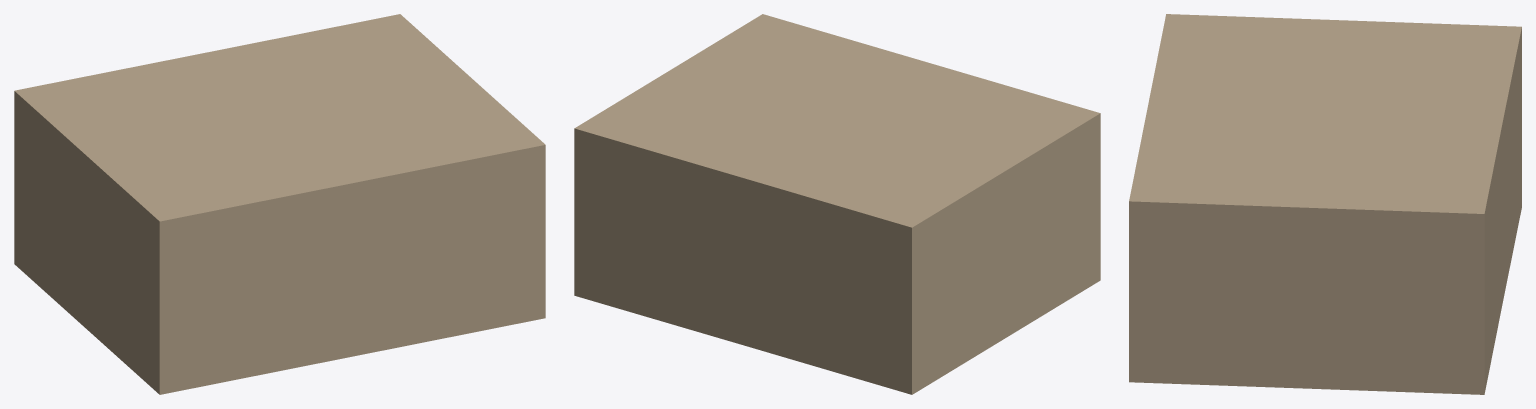
Rendered from bld_99739277.dae.
3 views of the same model, side by side, from view 1: azimuth 30°, elevation 25°; view 2: azimuth 150°, elevation 25°; view 3: azimuth 270°, elevation 25° (orthographic). The views are drawn at different scales.
Visible parts, largest first — view 1: Friary House; view 2: Friary House; view 3: Friary House.
Boxes of the visible parts, box(x1,y1,x2,y2) form: Friary House: box(14, 14, 545, 394); Friary House: box(574, 14, 1100, 394); Friary House: box(1129, 14, 1521, 394).
Size of the model in its own units: 18.98 by 15.75 by 8.
